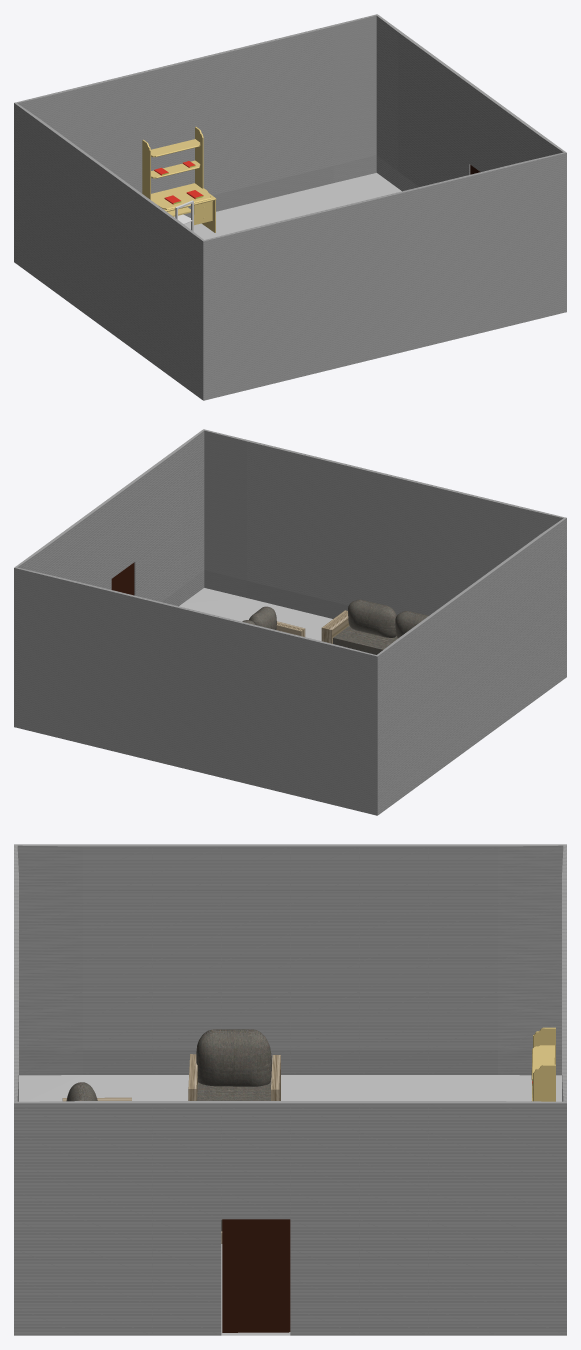
Rendered from _cene3.fbx.
3 renders of one model, top to bottom at view 1: azimuth 30°, elevation 25°; view 2: azimuth 150°, elevation 25°; view 3: azimuth 270°, elevation 25°, orthographic. The views are drawn at different scales.
Visible parts, largest first — view 1: walls1, desk; view 2: walls1, Sphere, Cube.001, door.005, Cube, Sphere.001; view 3: walls1, door.005, Sphere.002, desk, Cube.003, Cube.002.
Part boxes in pixels (x1=…): walls1: x1=14, y1=14, x2=566, y2=400; desk: x1=142, y1=127, x2=216, y2=232; walls1: x1=14, y1=429, x2=566, y2=815; Sphere: x1=348, y1=599, x2=396, y2=637; Cube.001: x1=333, y1=626, x2=397, y2=654; door.005: x1=111, y1=562, x2=134, y2=595; Cube: x1=321, y1=610, x2=349, y2=643; Sphere.001: x1=395, y1=611, x2=428, y2=638; walls1: x1=14, y1=844, x2=566, y2=1335; door.005: x1=222, y1=1219, x2=290, y2=1332; Sphere.002: x1=196, y1=1029, x2=271, y2=1086; desk: x1=531, y1=1027, x2=555, y2=1101; Cube.003: x1=197, y1=1077, x2=271, y2=1100; Cube.002: x1=188, y1=1054, x2=280, y2=1100.
Bounding box in the file's own units: 1057 × 452 × 954.
